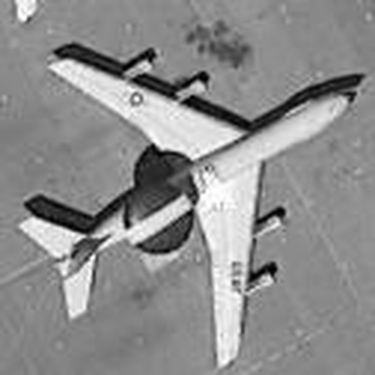airplane: (10, 43, 361, 369)
